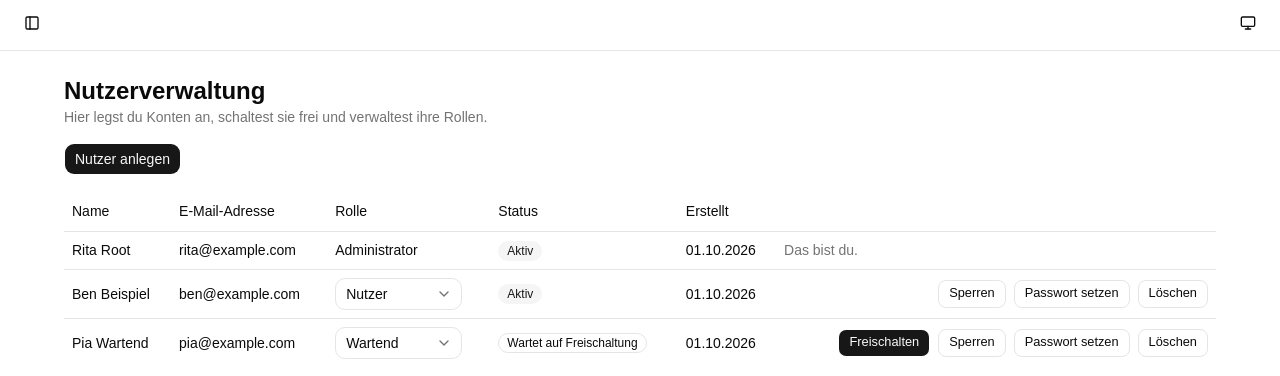
AdminUsersPage: change an account › approves a waiting account with one click and refreshes the list
The width and height of the screenshot is (1280, 376).
Expected: the heading "Nutzerverwaltung" is shown, [64,77,265,104]
Click the button with aria-label "Pia Wartend freischalten". click: coordinates (884, 342)
box: [838,328,930,356]
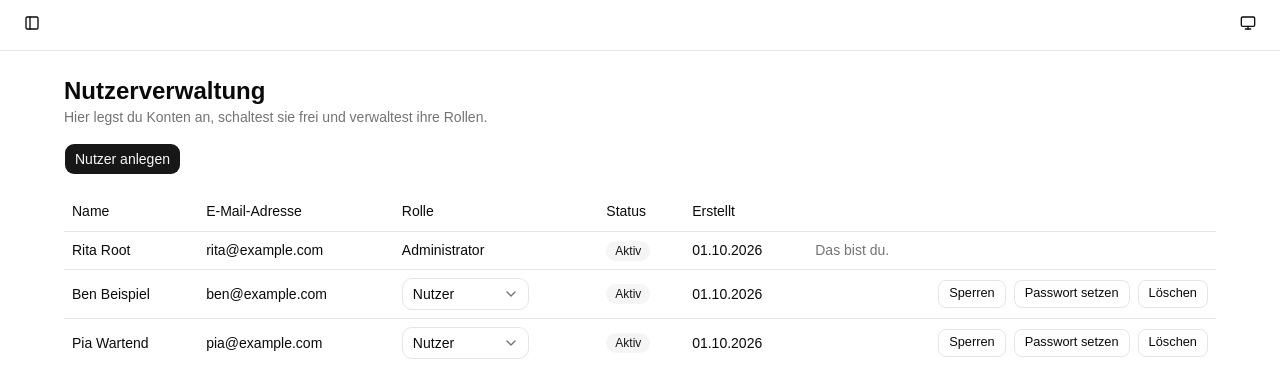
Result: the icon "Aktiv" in the row of "Pia Wartend" is shown at [615,336,641,350]
